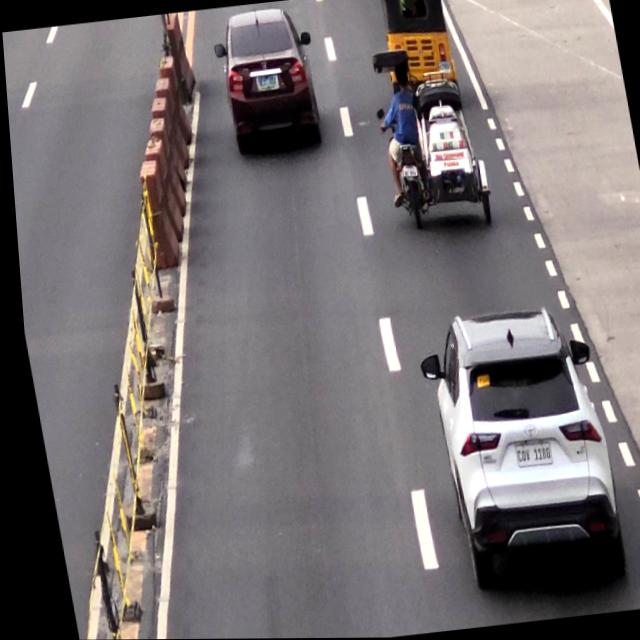Car: (417, 304, 626, 601), (211, 2, 321, 153)
License-Plate: (506, 439, 548, 471), (253, 72, 276, 90)
Tricycle: (369, 48, 487, 226)
